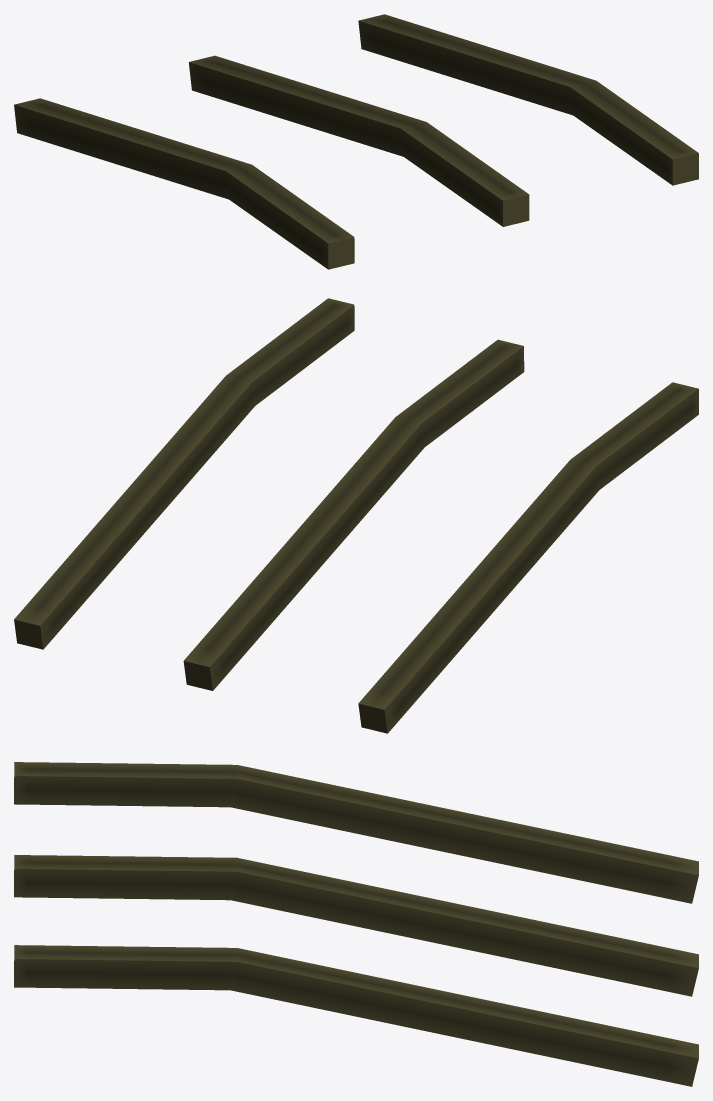
File: roof_beam_v012.fbx
The picture shows the model from 3 angles, top to bottom: view 1: azimuth 30°, elevation 25°; view 2: azimuth 150°, elevation 25°; view 3: azimuth 270°, elevation 25°; orthographic projection. The views are drawn at different scales.
Parts seen in each view (by area): view 1: roof_beam_v012; view 2: roof_beam_v012; view 3: roof_beam_v012.
Boxes of the visible parts, left/top/right/bottom form: roof_beam_v012: left=14, top=14, right=698, bottom=269; roof_beam_v012: left=14, top=298, right=698, bottom=733; roof_beam_v012: left=14, top=762, right=698, bottom=1086.
Size of the model in its own units: 379 by 115 by 557.
